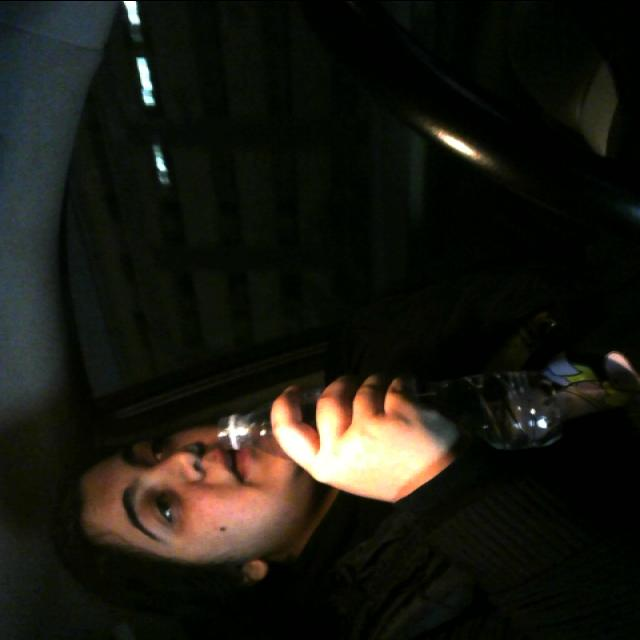drinking: (214, 358, 566, 471)
